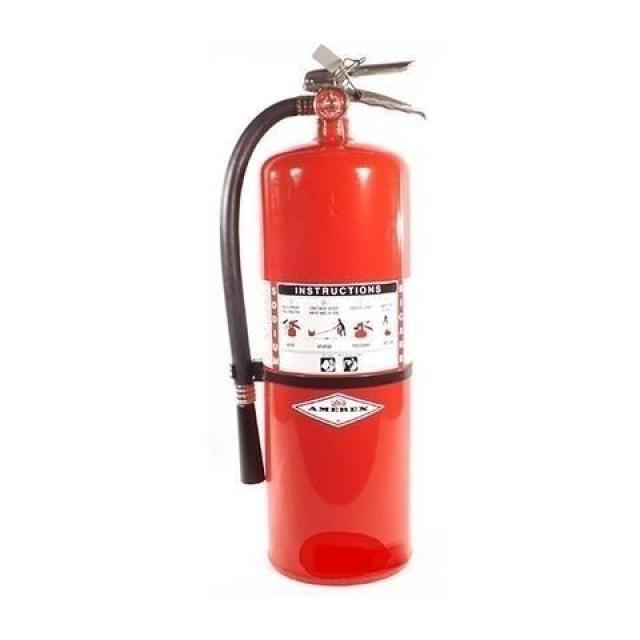fire_extinguisher: (213, 38, 431, 590)
